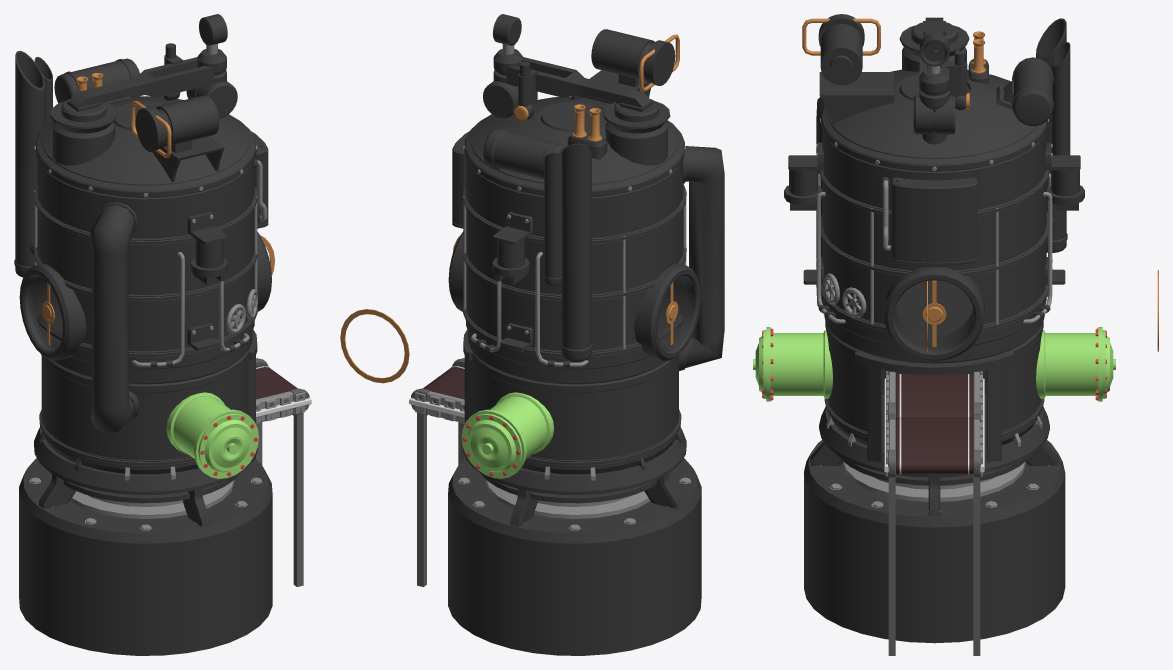
Rendered from boyler.fbx.
The picture shows the model from 3 angles, left to right: view 1: azimuth 30°, elevation 25°; view 2: azimuth 150°, elevation 25°; view 3: azimuth 270°, elevation 25°; orthographic projection. The views are drawn at different scales.
Visible parts, largest first — view 1: Boyler.071, Boyler.037, Boyler.058, Boyler.038, Boyler.059, Boyler.076, Boyler.032, Boyler.062, Boyler.045, Boyler.081, Boyler.082, pipe5.026 (+26 smaller); view 2: Boyler.071, Boyler.037, Boyler.058, Boyler.038, Boyler.059, Boyler.032, Boyler.076, Boyler.062, Boyler.045, Boyler.081, Boyler.082, pipe5.026 (+27 smaller); view 3: Boyler.071, Boyler.037, Boyler.038, Boyler.058, Boyler.047, pipe1.002, Boyler.076, 立方体.102, Boyler.077, Boyler.062, Boyler.045, Boyler (+25 smaller).
Boxes of the visible parts, x1=… form: Boyler.071: x1=19, y1=458, x2=272, y2=655; Boyler.037: x1=37, y1=158, x2=254, y2=384; Boyler.058: x1=41, y1=352, x2=248, y2=474; Boyler.038: x1=35, y1=96, x2=256, y2=197; Boyler.059: x1=90, y1=204, x2=133, y2=433; Boyler.076: x1=19, y1=232, x2=271, y2=360; Boyler.032: x1=14, y1=50, x2=45, y2=277; Boyler.062: x1=34, y1=427, x2=257, y2=494; Boyler.045: x1=34, y1=184, x2=257, y2=357; Boyler.081: x1=50, y1=99, x2=117, y2=165; Boyler.082: x1=69, y1=57, x2=213, y2=107; pipe5.026: x1=198, y1=413, x2=258, y2=477; Boyler.071: x1=448, y1=458, x2=701, y2=655; Boyler.037: x1=466, y1=158, x2=683, y2=384; Boyler.058: x1=472, y1=352, x2=679, y2=474; Boyler.038: x1=464, y1=96, x2=684, y2=196; Boyler.059: x1=684, y1=146, x2=724, y2=367; Boyler.032: x1=561, y1=143, x2=592, y2=361; Boyler.076: x1=448, y1=231, x2=700, y2=360; Boyler.062: x1=463, y1=427, x2=686, y2=494; Boyler.045: x1=463, y1=184, x2=686, y2=357; Boyler.081: x1=603, y1=98, x2=670, y2=165; Boyler.082: x1=506, y1=57, x2=651, y2=107; pipe5.026: x1=462, y1=413, x2=522, y2=477; Boyler.071: x1=804, y1=440, x2=1065, y2=643; Boyler.037: x1=822, y1=131, x2=1046, y2=363; Boyler.038: x1=820, y1=69, x2=1048, y2=171; Boyler.058: x1=825, y1=280, x2=1043, y2=444; Boyler.047: x1=891, y1=177, x2=977, y2=265; pipe1.002: x1=766, y1=327, x2=1102, y2=401; Boyler.076: x1=884, y1=267, x2=984, y2=361; 立方体.102: x1=895, y1=417, x2=973, y2=474; Boyler.077: x1=895, y1=280, x2=973, y2=349; Boyler.062: x1=819, y1=394, x2=1049, y2=477; Boyler.045: x1=819, y1=170, x2=1049, y2=331; Boyler: x1=895, y1=374, x2=973, y2=417.
Size of the model in its own units: 2.67 by 5.77 by 3.62.
